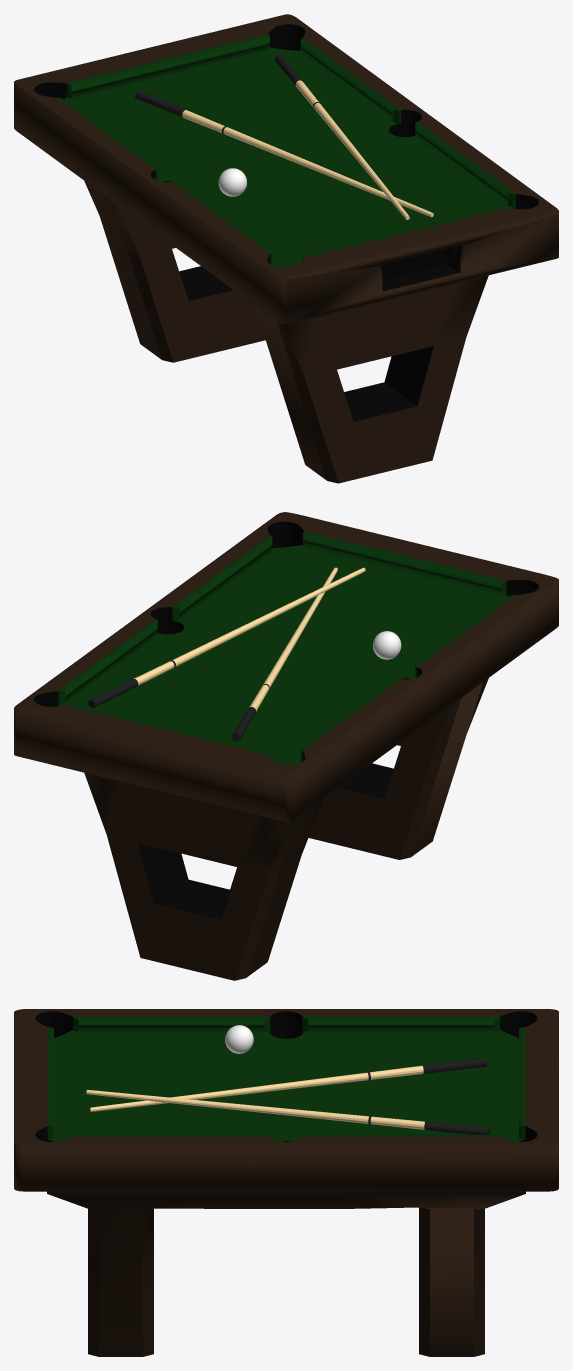
File: billardtable.fbx
The picture shows the model from 3 angles, top to bottom: view 1: azimuth 30°, elevation 25°; view 2: azimuth 150°, elevation 25°; view 3: azimuth 270°, elevation 25°; orthographic projection.
Parts seen in each view (by area): view 1: Cube.001; view 2: Cube.001; view 3: Cube.001.
Part boxes in pixels (x1=…): Cube.001: x1=14, y1=14, x2=558, y2=483; Cube.001: x1=14, y1=512, x2=558, y2=980; Cube.001: x1=14, y1=1009, x2=558, y2=1356.
Bounding box in the file's own units: 293 × 267 × 493.
